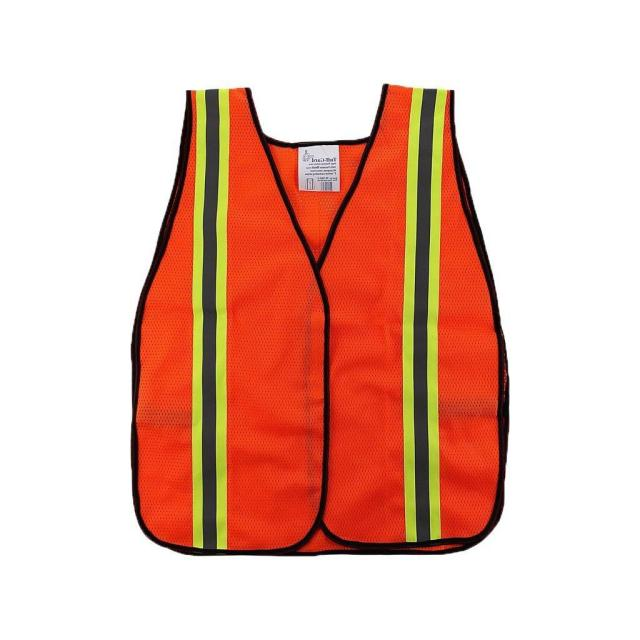Reflective-Jacket: (42, 64, 568, 562)
